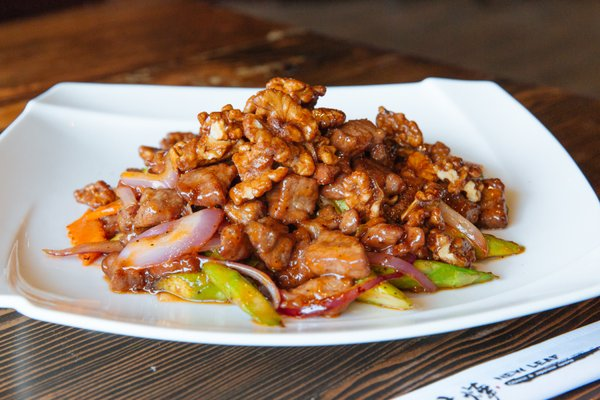curry: (4, 5, 599, 393)
